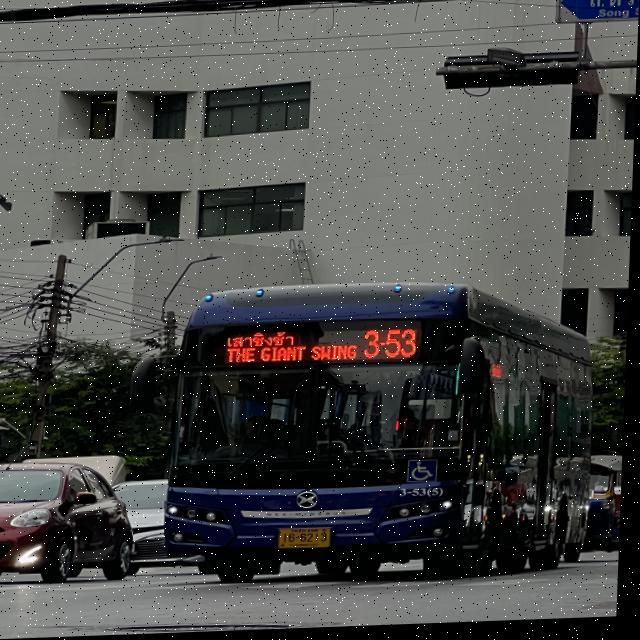Bus Line Number: (363, 332, 423, 367)
Bus Side Number: (402, 489, 449, 501)
Destination Sign: (223, 330, 362, 367)
TSB-Bus: (166, 286, 597, 586)
